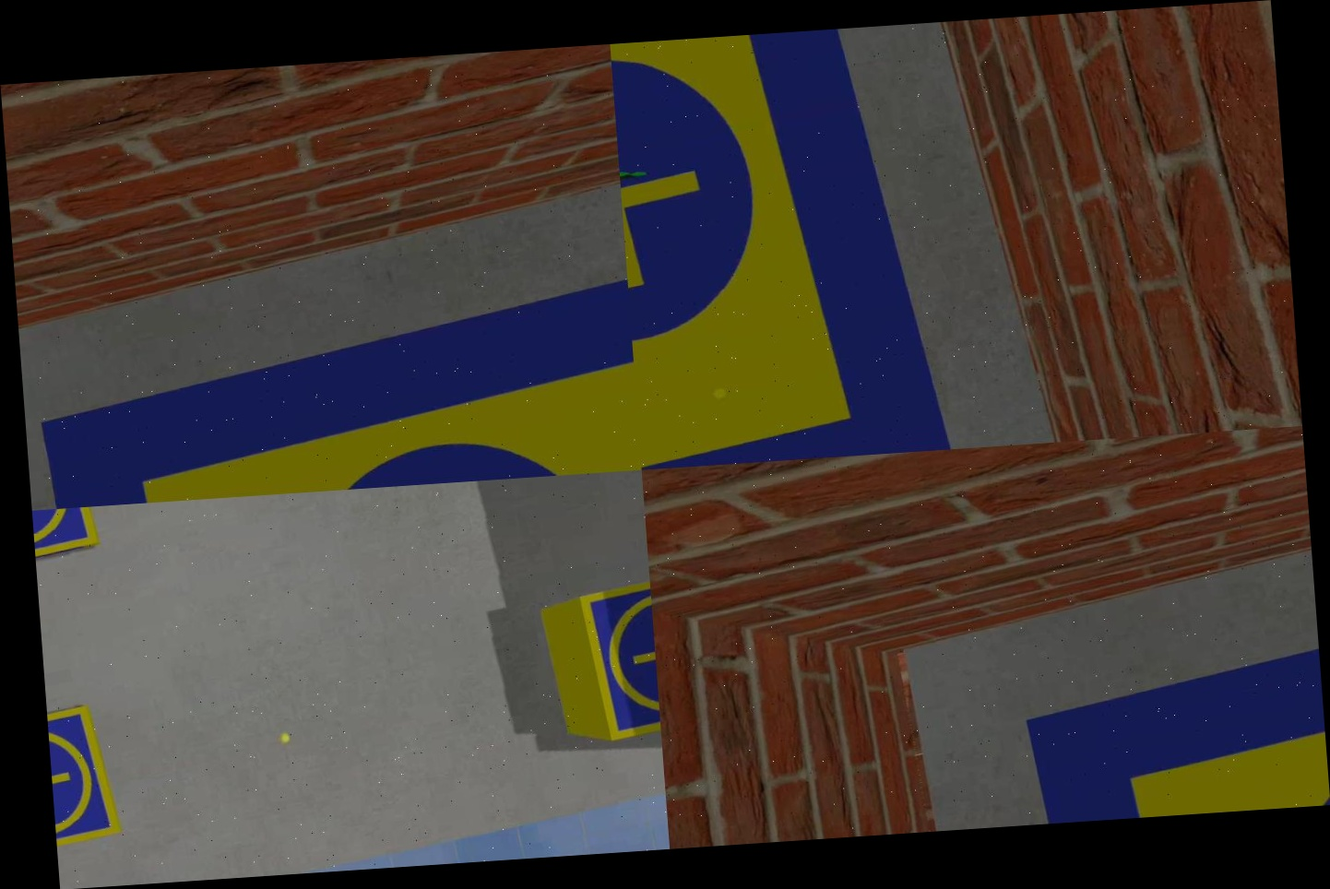large_base: (16, 249, 642, 511), (610, 23, 960, 470), (1007, 566, 1330, 824)
small_base: (574, 565, 662, 746), (46, 701, 125, 860), (32, 506, 102, 571)
